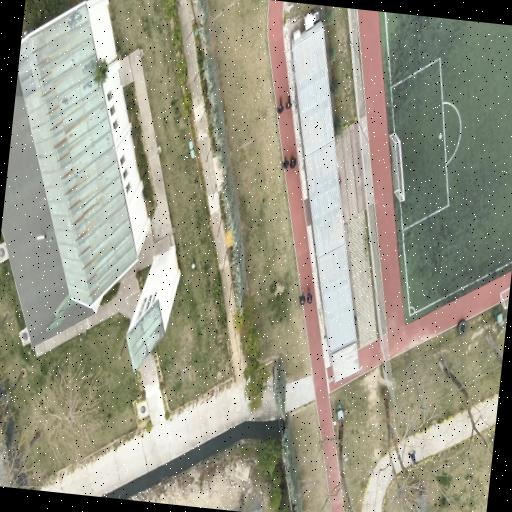person: (408, 450, 417, 465), (277, 97, 284, 114), (300, 289, 306, 305), (307, 286, 312, 303), (290, 155, 297, 167), (286, 94, 291, 109), (283, 157, 289, 169)
